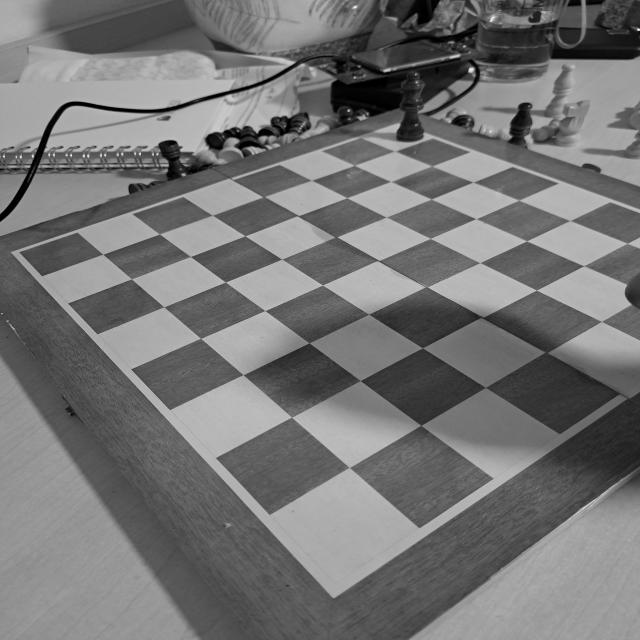chess-table-corners: (295, 556, 368, 608), (5, 243, 35, 262), (394, 120, 404, 126)
